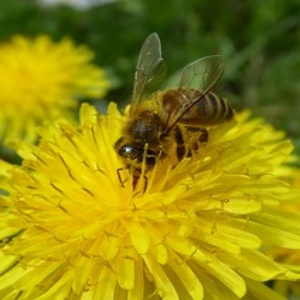bee: (109, 32, 242, 195)
